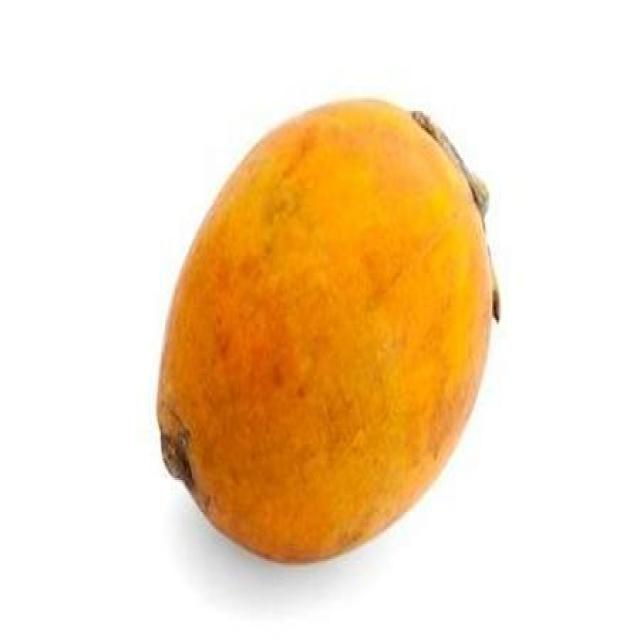good: (158, 102, 491, 559)
